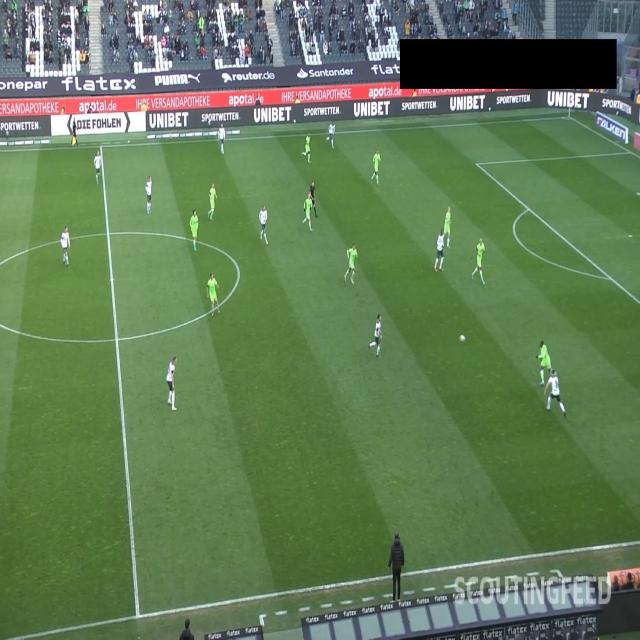ball: (458, 333, 466, 343)
